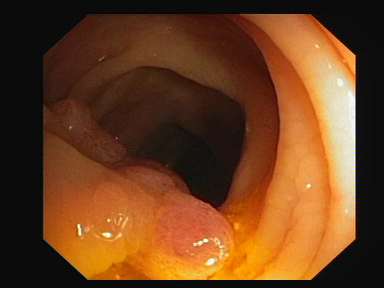polyp: (153, 194, 235, 266), (52, 101, 126, 161), (119, 166, 175, 193)
